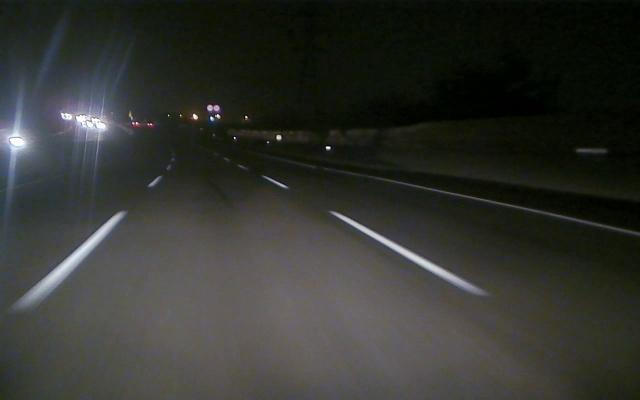lane: (271, 178, 508, 304), (6, 176, 162, 318), (357, 173, 638, 238)
